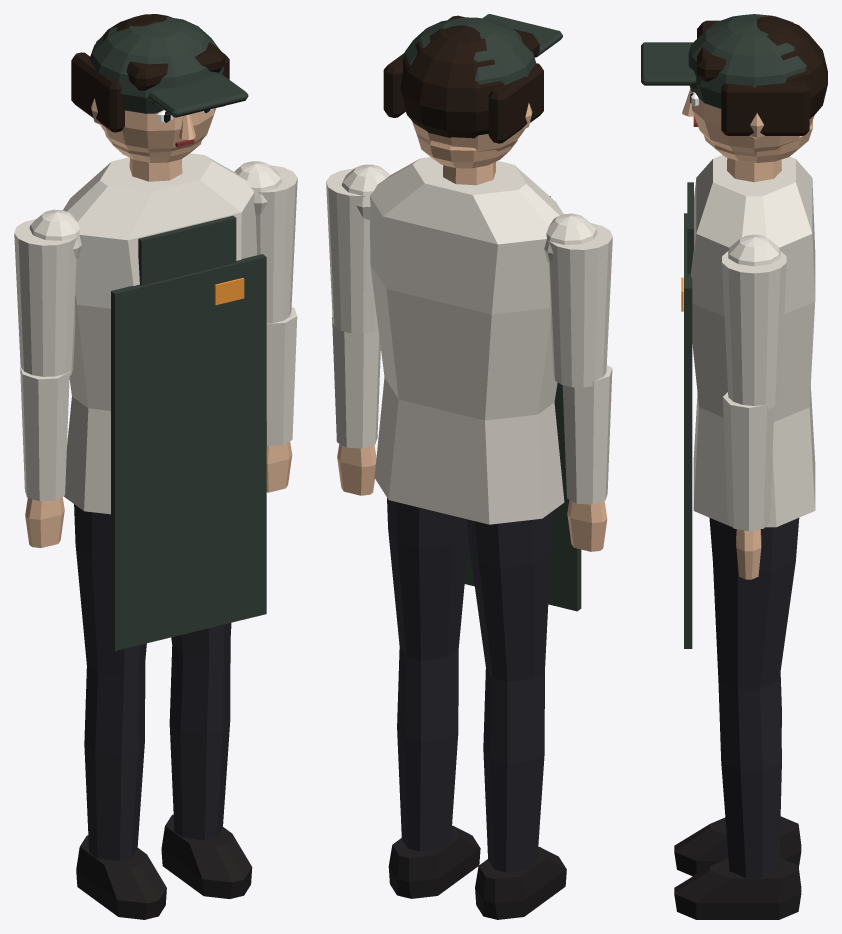
The model's file is barista.obj.
3 renders of one model, left to right at view 1: azimuth 30°, elevation 25°; view 2: azimuth 150°, elevation 25°; view 3: azimuth 270°, elevation 25°, orthographic.
Visible parts, largest first — view 1: barista; view 2: barista; view 3: barista.
Boxes of the visible parts, x1,y1,x2,y2 form: barista: [14, 14, 297, 919]; barista: [326, 14, 612, 919]; barista: [641, 14, 827, 919].
Bounding box in the file's own units: 0.58 × 1.73 × 0.3381.
